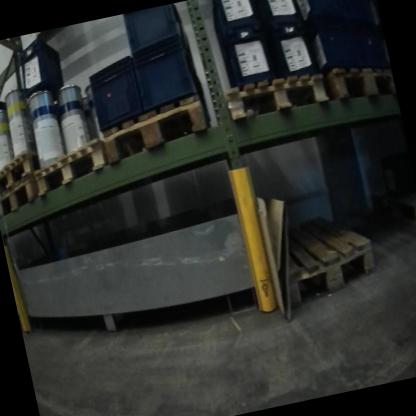pallet: (262, 198, 388, 316), (88, 82, 225, 176), (215, 58, 331, 133), (25, 131, 111, 203), (319, 56, 394, 114), (0, 142, 46, 203), (0, 174, 44, 233)
small_load_carrier: (130, 28, 210, 125), (300, 4, 366, 87), (82, 51, 147, 131), (261, 11, 318, 88), (217, 23, 277, 96), (119, 7, 187, 68), (15, 32, 69, 98), (210, 0, 269, 50), (351, 16, 390, 78), (256, 0, 309, 42), (299, 0, 350, 33)
